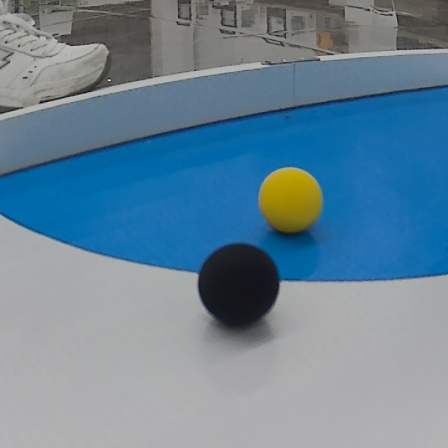black: (191, 243, 281, 329)
blue_base: (2, 80, 448, 285)
yellow: (257, 164, 324, 236)
